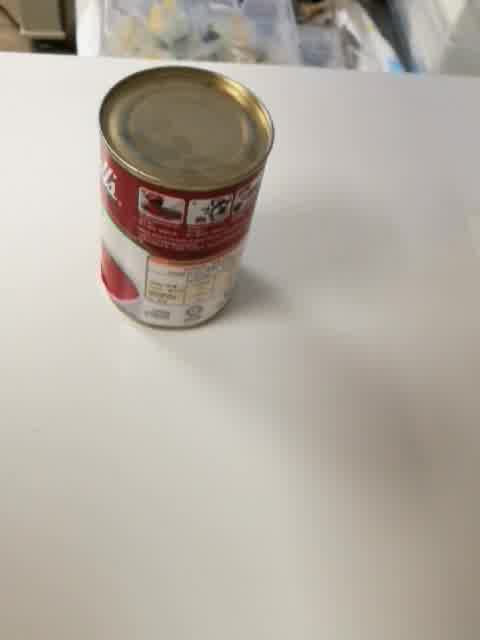tomatosoup: (97, 64, 277, 333)
